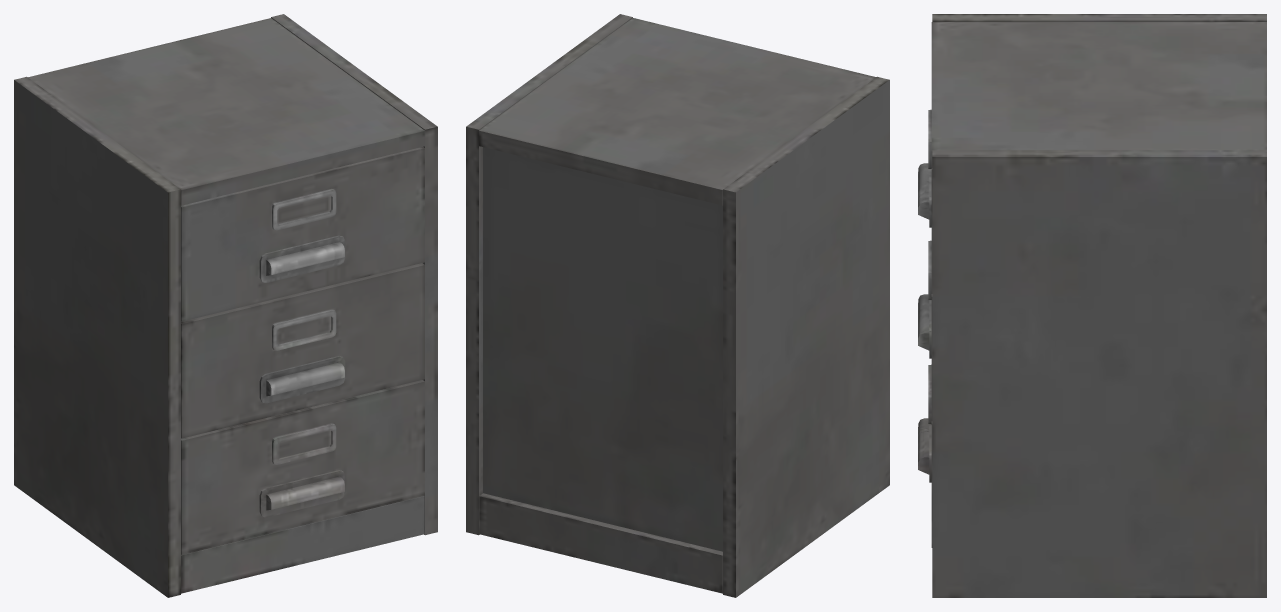
Rendered from cabinet.glb.
3 views of the same model, side by side, from view 1: azimuth 30°, elevation 25°; view 2: azimuth 150°, elevation 25°; view 3: azimuth 270°, elevation 25° (orthographic). The views are drawn at different scales.
Visible parts, largest first — view 1: zp_cab; view 2: zp_cab; view 3: zp_cab.
Boxes of the visible parts, x1,y1,x2,y2 form: zp_cab: (14, 14, 437, 597); zp_cab: (466, 14, 889, 597); zp_cab: (918, 14, 1266, 597).
Bounding box in the file's own units: 0.6686 × 0.9603 × 0.6889.
Materials: 1 (1 with a texture image).
